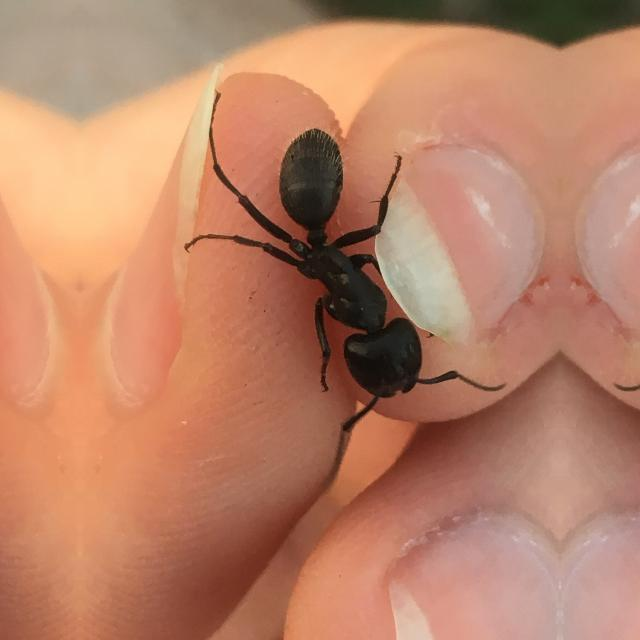Camponotus: (206, 80, 466, 454)
